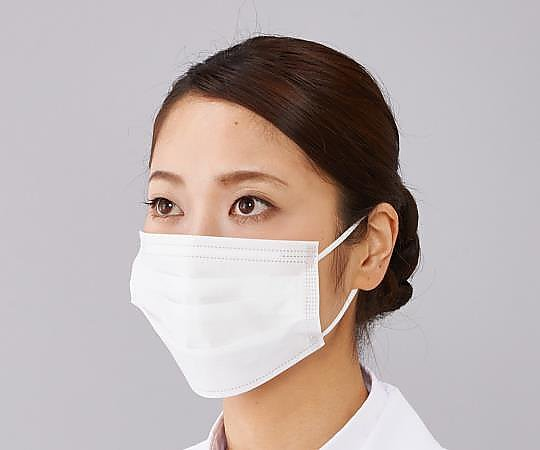mask: (130, 232, 316, 390)
